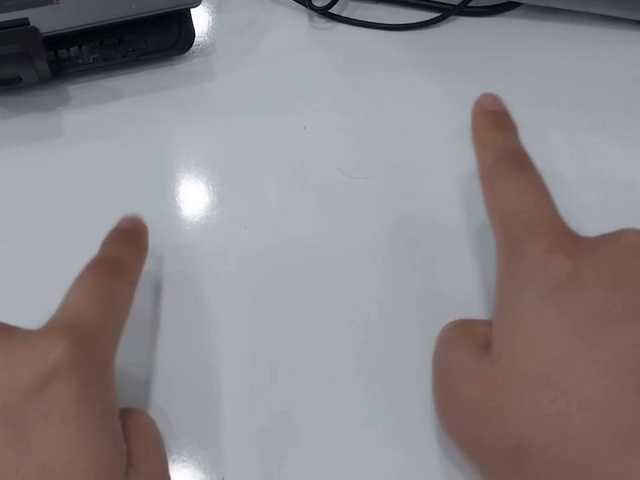fingers: (99, 212, 149, 273), (470, 92, 520, 153)
